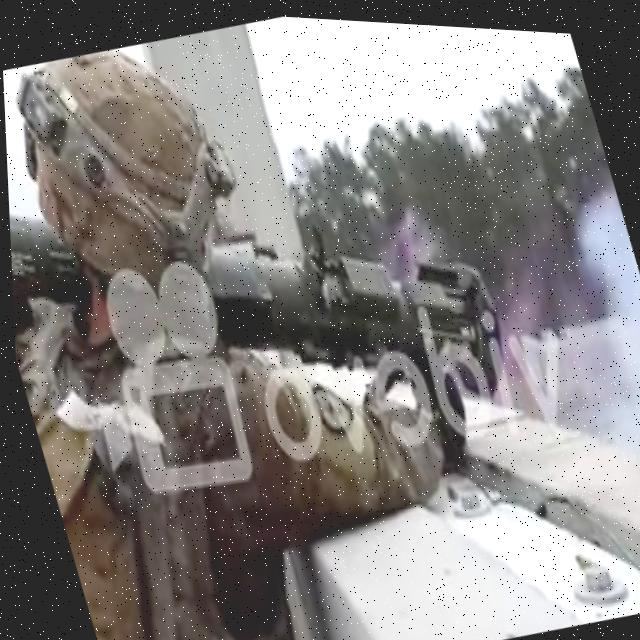rocket: (3, 90, 529, 508)
